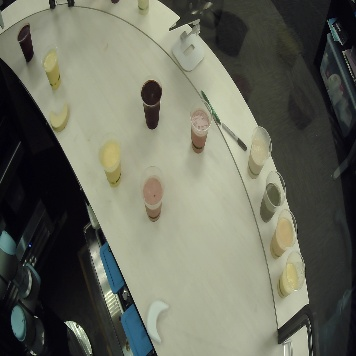full_cup: (139, 162, 165, 221), (257, 171, 287, 221), (276, 251, 306, 298), (268, 208, 296, 258), (97, 137, 123, 186), (247, 126, 272, 176), (139, 79, 163, 129), (188, 99, 210, 153), (39, 44, 63, 91), (14, 22, 37, 62), (138, 1, 149, 16)
puck: (145, 299, 169, 345), (48, 102, 71, 131)
